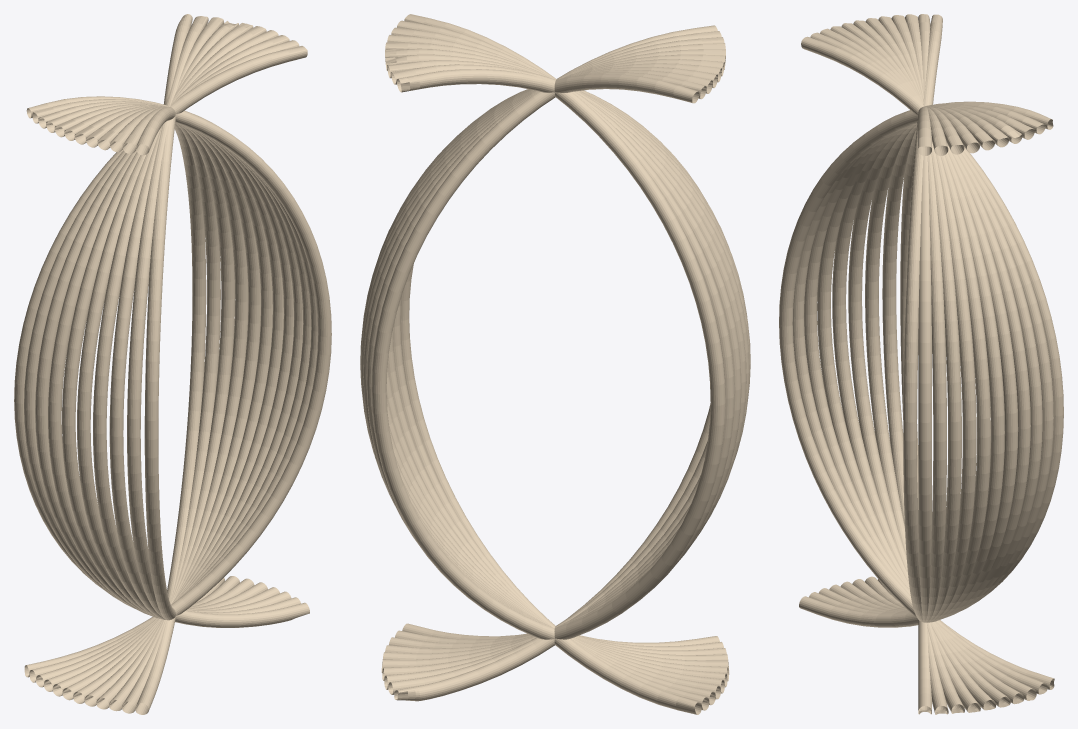
3 renders of one model, left to right at view 1: azimuth 30°, elevation 25°; view 2: azimuth 150°, elevation 25°; view 3: azimuth 270°, elevation 25°, orthographic. The views are drawn at different scales.
Visible parts, largest first — view 1: Torus021, Torus010, Torus, Torus009, Torus008, Torus006, Torus005, Torus004, Torus007, Torus011, Torus012, Torus003 (+10 smaller); view 2: Torus, Torus010, Torus021, Torus009, Torus001, Torus002, Torus003, Torus011, Torus020, Torus004, Torus008, Torus012 (+10 smaller); view 3: Torus009, Torus010, Torus021, Torus004, Torus005, Torus003, Torus002, Torus006, Torus016, Torus015, Torus018, Torus017 (+10 smaller).
Part boxes in pixels (left/top/right/bottom): Torus021: left=24, top=96, right=331, bottom=677; Torus010: left=135, top=107, right=206, bottom=714; Torus: left=14, top=46, right=309, bottom=627; Torus009: left=144, top=14, right=192, bottom=620; Torus008: left=127, top=16, right=208, bottom=616; Torus006: left=93, top=21, right=239, bottom=619; Torus005: left=77, top=23, right=254, bottom=615; Torus004: left=62, top=26, right=267, bottom=616; Torus007: left=109, top=17, right=224, bottom=619; Torus011: left=122, top=106, right=220, bottom=713; Torus012: left=109, top=106, right=234, bottom=711; Torus003: left=48, top=30, right=279, bottom=618; Torus: left=402, top=14, right=725, bottom=639; Torus010: left=371, top=25, right=719, bottom=646; Torus021: left=400, top=74, right=701, bottom=714; Torus009: left=394, top=69, right=710, bottom=701; Torus001: left=395, top=20, right=734, bottom=643; Torus002: left=389, top=27, right=741, bottom=648; Torus003: left=385, top=35, right=746, bottom=653; Torus011: left=366, top=31, right=723, bottom=650; Torus020: left=393, top=72, right=709, bottom=710; Torus004: left=382, top=42, right=749, bottom=664; Torus008: left=388, top=64, right=707, bottom=694; Torus012: left=363, top=37, right=726, bottom=655; Torus009: left=779, top=101, right=1054, bottom=689; Torus010: left=799, top=36, right=1063, bottom=627; Torus021: left=903, top=14, right=942, bottom=621; Torus004: left=848, top=106, right=995, bottom=710; Torus005: left=832, top=105, right=1010, bottom=707; Torus003: left=865, top=107, right=980, bottom=712; Torus002: left=882, top=106, right=964, bottom=713; Torus006: left=817, top=105, right=1023, bottom=704; Torus016: left=865, top=18, right=990, bottom=622; Torus015: left=852, top=20, right=1004, bottom=622; Torus018: left=891, top=15, right=961, bottom=622; Torus017: left=878, top=16, right=976, bottom=622.
Size of the model in its own units: 48412 by 85585 by 38523.
